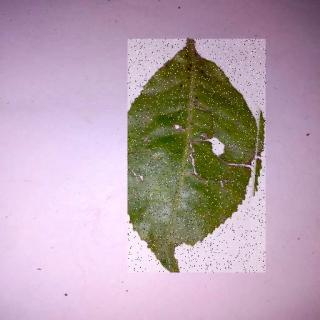Bird Eye Spot: (129, 40, 267, 274)
